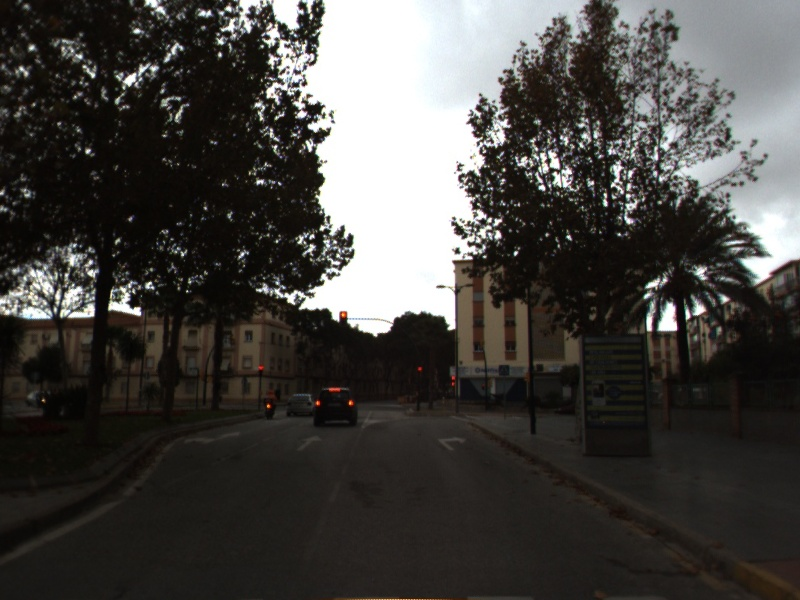RIGHT: (434, 434, 470, 453)
STRAIGHT: (294, 433, 325, 453)
STRAIGHT_LEFT: (180, 428, 244, 447)
